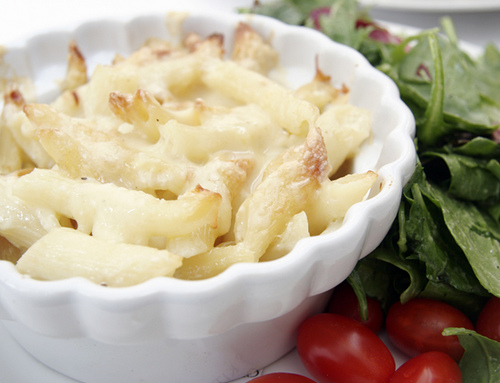macncheese: (1, 15, 388, 284)
